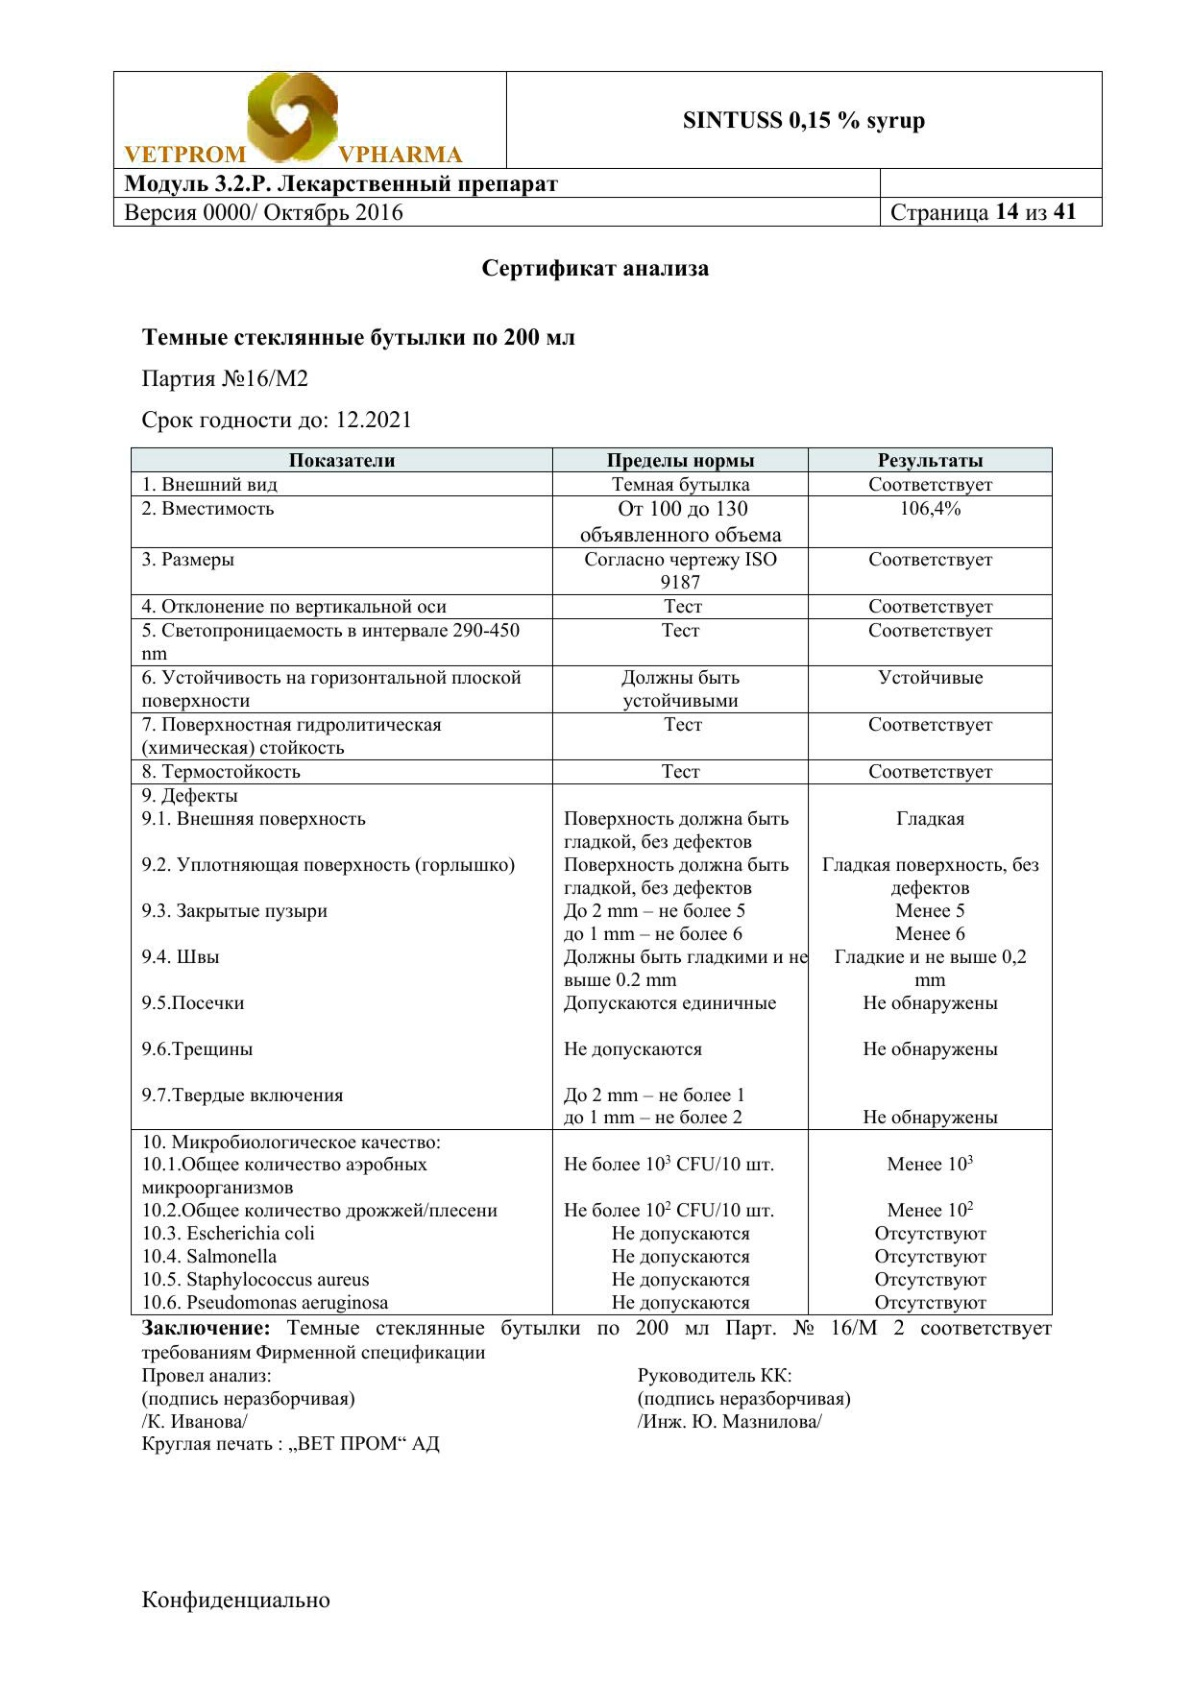full_lined: (129, 446, 1053, 1316)
merged_cells: (111, 68, 1106, 228)
